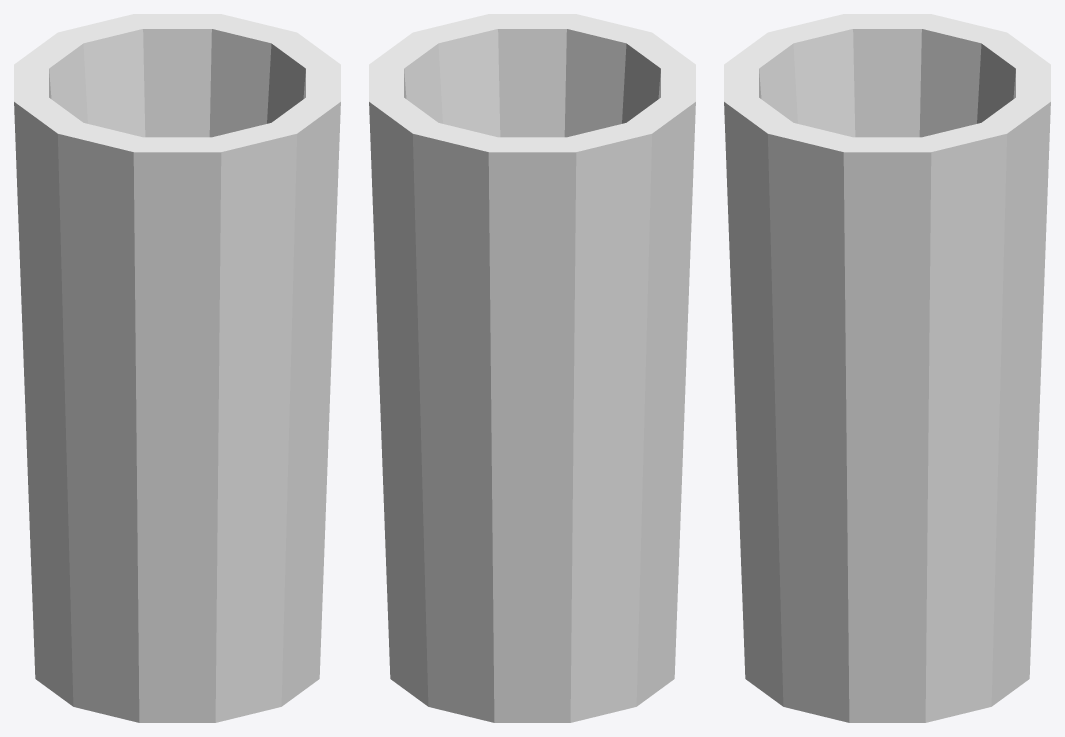
The model's file is highball.obj.
3 renders of one model, left to right at view 1: azimuth 30°, elevation 25°; view 2: azimuth 150°, elevation 25°; view 3: azimuth 270°, elevation 25°, orthographic.
Parts seen in each view (by area): view 1: tube; view 2: tube; view 3: tube.
Boxes of the visible parts, <box> form: tube: <box>14,14,340,722</box>; tube: <box>369,14,695,722</box>; tube: <box>724,14,1050,722</box>.
Bounding box in the file's own units: 0.2875 × 0.5625 × 0.2875.
Materials: 1 (1 with a texture image).
